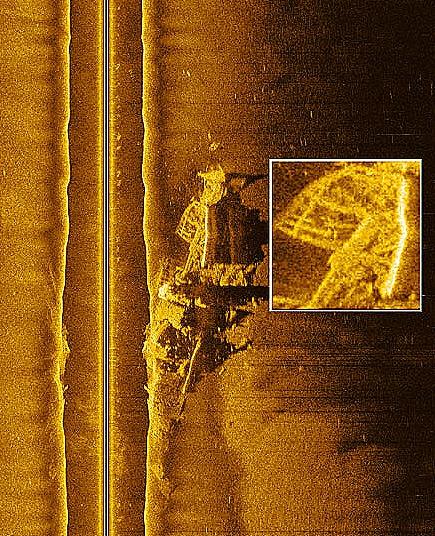ship: (141, 157, 255, 423)
